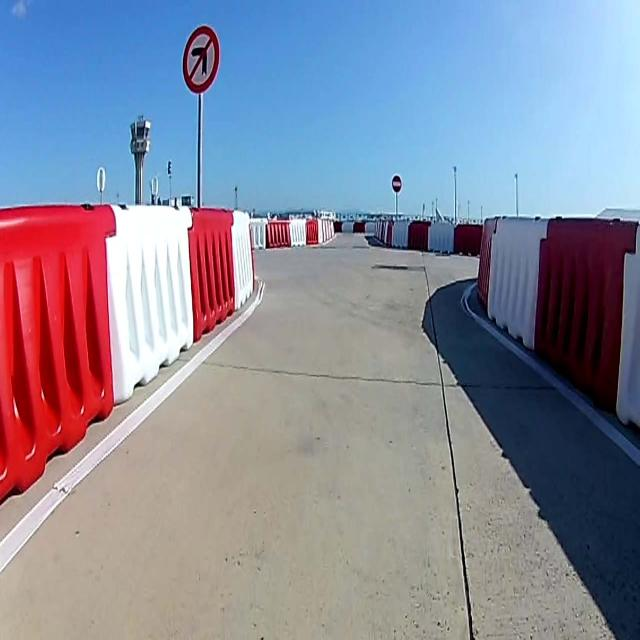girisyok: (392, 175, 402, 192)
soladonulmez: (182, 27, 220, 92)
